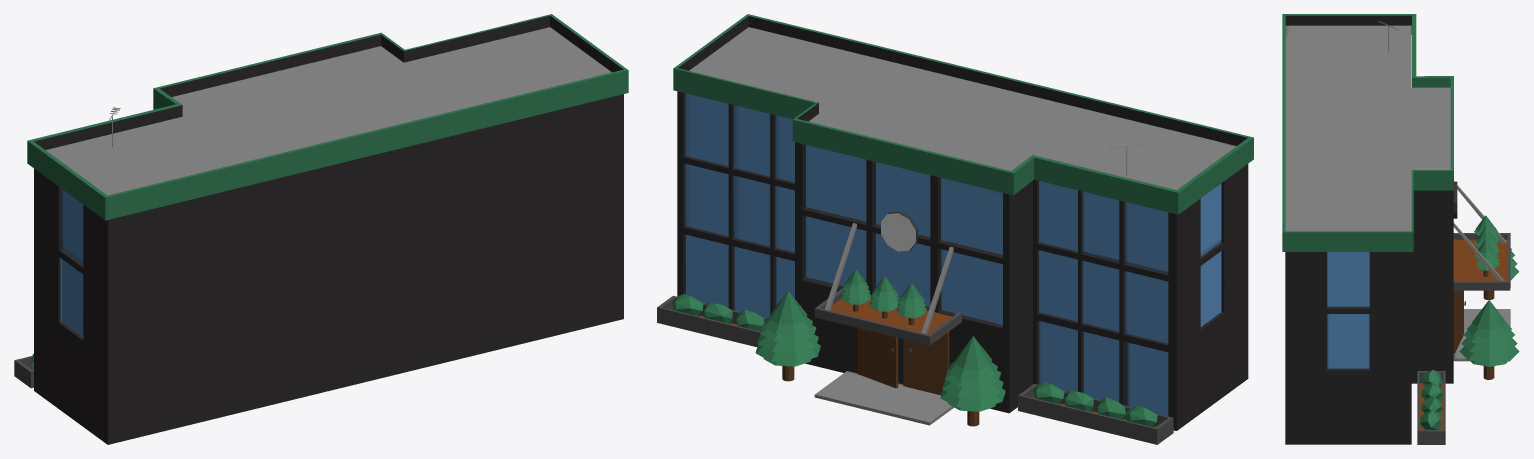
The model's file is Trees school.obj.
The picture shows the model from 3 angles, left to right: view 1: azimuth 30°, elevation 25°; view 2: azimuth 150°, elevation 25°; view 3: azimuth 270°, elevation 25°; orthographic projection. The views are drawn at different scales.
Visible parts, largest first — view 1: School; view 2: School, Цилиндр.006, Bush.001, Куб.003, Bush, Цилиндр.004, Цилиндр.002, Цилиндр.003; view 3: School, Цилиндр.006, Куб.003, Bush, Цилиндр.002, Цилиндр.003, Цилиндр.004.
Boxes of the visible parts, x1,y1,x2,y2 form: School: (27, 14, 628, 444); School: (673, 14, 1253, 430); Цилиндр.006: (755, 291, 1005, 426); Bush.001: (1018, 382, 1173, 444); Куб.003: (814, 223, 961, 345); Bush: (657, 294, 766, 346); Цилиндр.004: (896, 283, 926, 325); Цилиндр.002: (840, 269, 871, 311); Цилиндр.003: (869, 276, 898, 318); School: (1282, 14, 1510, 444); Цилиндр.006: (1459, 229, 1519, 379); Куб.003: (1453, 181, 1510, 290); Bush: (1417, 369, 1445, 444); Цилиндр.002: (1474, 239, 1499, 276); Цилиндр.003: (1474, 227, 1499, 253); Цилиндр.004: (1474, 215, 1499, 242).
Bounding box in the file's own units: 48.12 × 23.72 × 22.07.
1 material, 1 textured.
